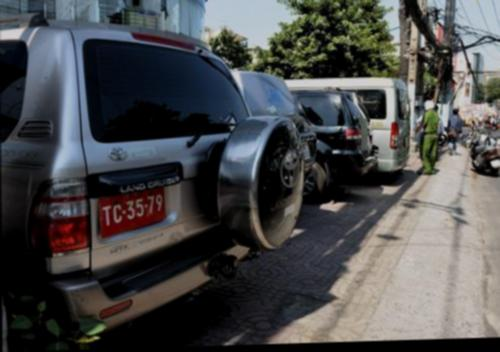License_Plate: (93, 187, 171, 235)
